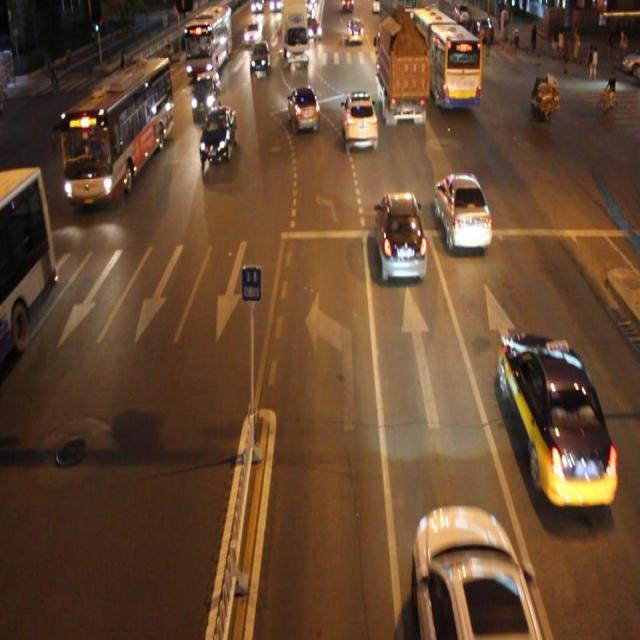bus: (378, 21, 426, 126)
car: (499, 331, 616, 506), (409, 507, 538, 640), (375, 191, 426, 282), (434, 173, 489, 251), (340, 90, 378, 148), (198, 105, 236, 163), (286, 84, 319, 134), (192, 71, 222, 122)
van: (59, 57, 171, 203), (1, 168, 58, 366), (410, 1, 479, 109)
